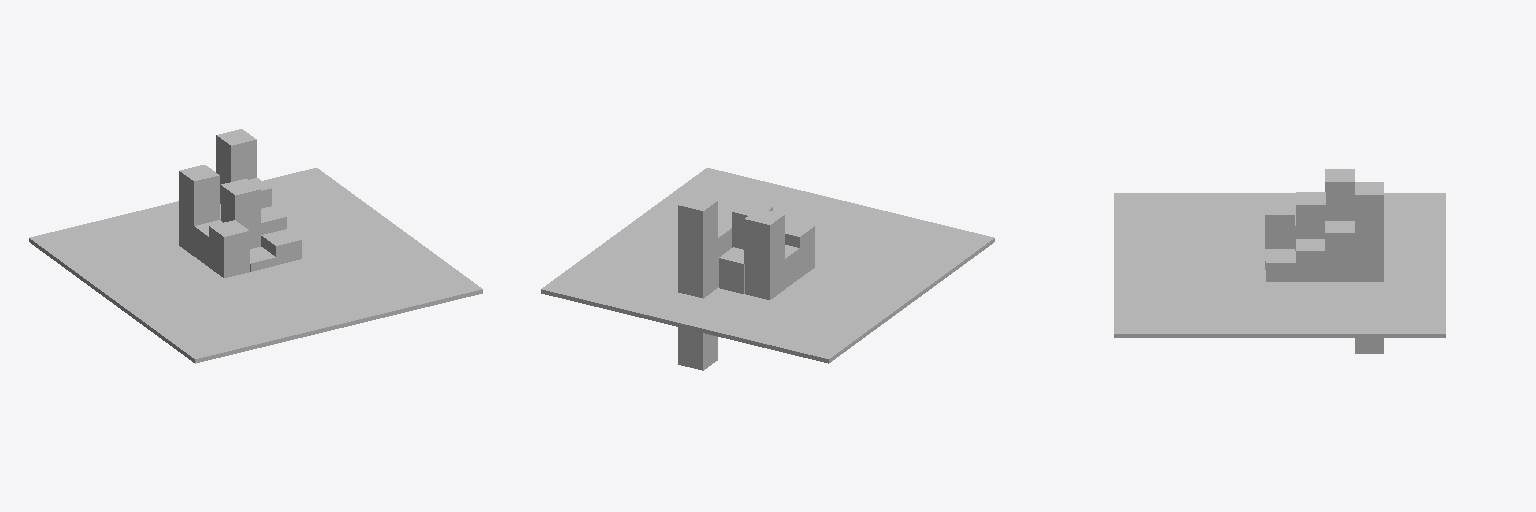
Rendered from kitchen.obj.
3 renders of one model, left to right at view 1: azimuth 30°, elevation 25°; view 2: azimuth 150°, elevation 25°; view 3: azimuth 270°, elevation 25°, orthographic.
Parts seen in each view (by area): view 1: Cube, Cube.010, Cube.002, Cube.008, Cube.004, Cube.007, Cube.009, Cube.005; view 2: Cube, Cube.008, Cube.010, Cube.002, Cube.003, Cube.004, Cube.009; view 3: Cube, Cube.008, Cube.006, Cube.010, Cube.004, Cube.002, Cube.005, Cube.007.
Part boxes in pixels (left/top/right/bottom): Cube: left=29, top=168, right=482, bottom=363; Cube.010: left=179, top=165, right=219, bottom=255; Cube.002: left=209, top=220, right=249, bottom=277; Cube.008: left=216, top=129, right=256, bottom=203; Cube.004: left=221, top=179, right=260, bottom=248; Cube.007: left=261, top=229, right=301, bottom=264; Cube.009: left=194, top=220, right=222, bottom=266; Cube.005: left=261, top=206, right=286, bottom=234; Cube: left=541, top=168, right=994, bottom=363; Cube.008: left=678, top=194, right=717, bottom=370; Cube.010: left=744, top=208, right=784, bottom=299; Cube.002: left=785, top=220, right=814, bottom=277; Cube.003: left=719, top=247, right=744, bottom=293; Cube.004: left=732, top=201, right=772, bottom=249; Cube.009: left=785, top=245, right=799, bottom=288; Cube: left=1114, top=193, right=1445, bottom=337; Cube.008: left=1355, top=182, right=1383, bottom=353; Cube.006: left=1325, top=221, right=1354, bottom=281; Cube.010: left=1325, top=169, right=1354, bottom=220; Cube.004: left=1296, top=192, right=1325, bottom=238; Cube.002: left=1265, top=203, right=1294, bottom=248; Cube.005: left=1296, top=239, right=1325, bottom=281; Cube.007: left=1266, top=251, right=1295, bottom=281.
Size of the model in its own units: 22.38 by 11.85 by 22.38.